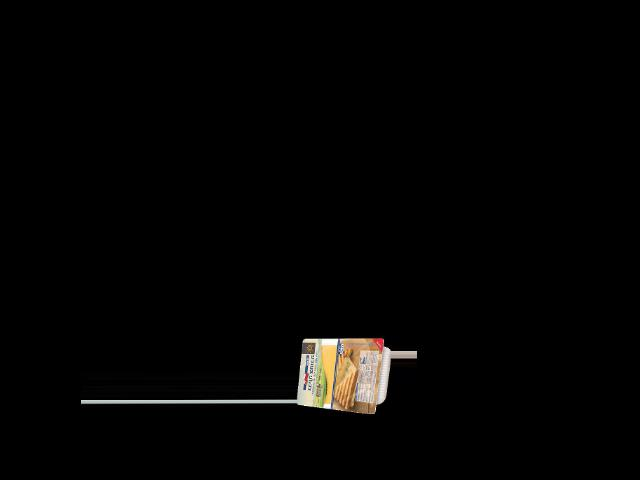cheese: (297, 341, 391, 412)
